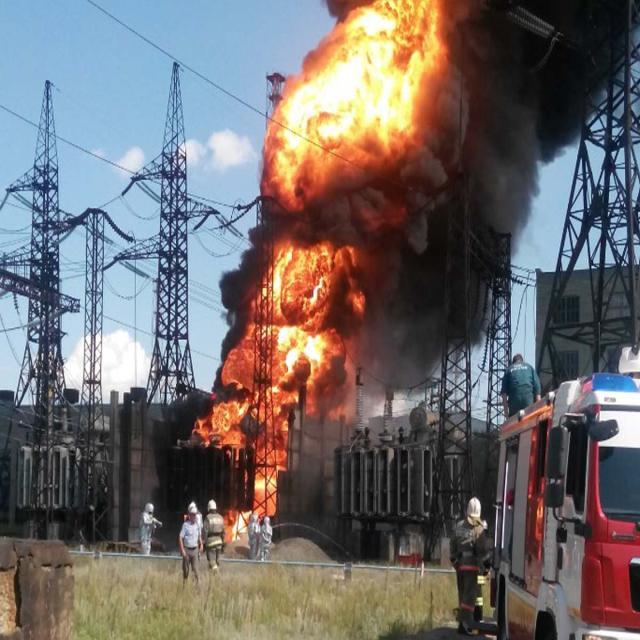Fire: (191, 240, 365, 509), (258, 0, 444, 213)
Smoke: (206, 0, 619, 481)
